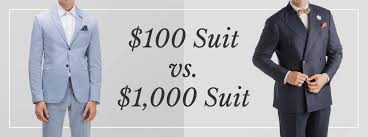F_M_suit jacket: (251, 5, 349, 116), (30, 6, 104, 107)
